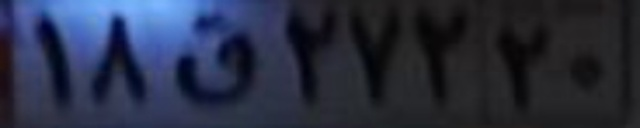0: (562, 54, 613, 91)
1: (33, 16, 73, 103)
2: (281, 5, 339, 103), (413, 4, 468, 106), (494, 23, 551, 109)
7: (347, 5, 401, 104)
8: (86, 15, 154, 102)
ghaf: (168, 14, 259, 104)
